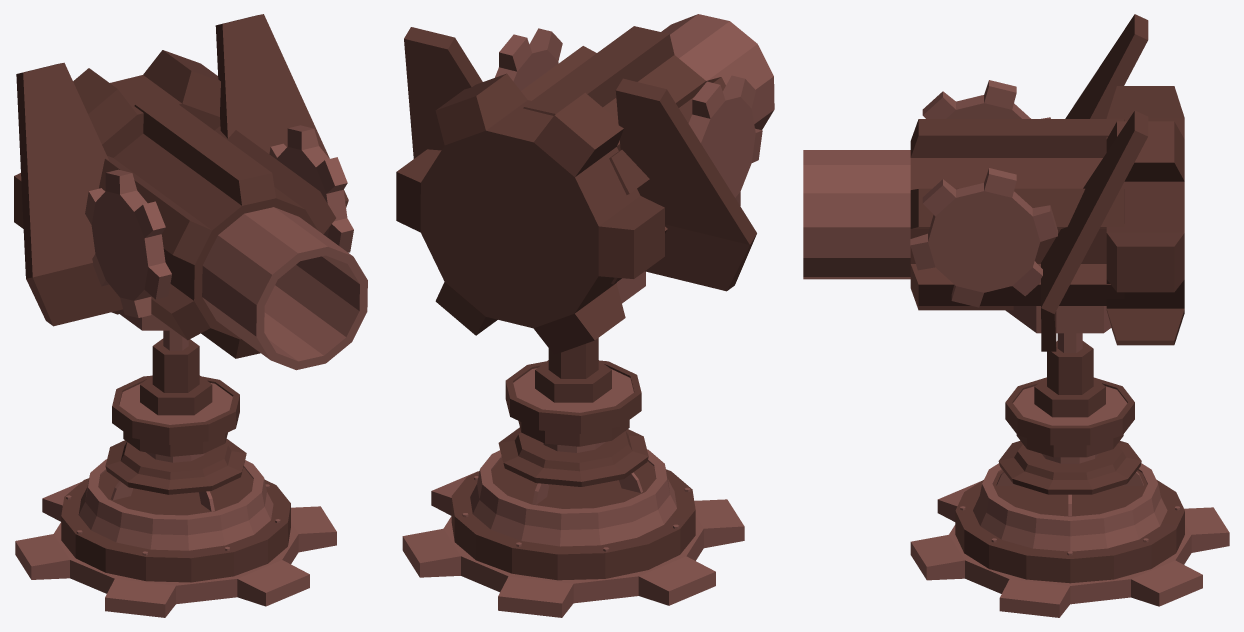
Rendered from cannon-2.glb.
3 views of the same model, side by side, from view 1: azimuth 30°, elevation 25°; view 2: azimuth 150°, elevation 25°; view 3: azimuth 270°, elevation 25° (orthographic). The views are drawn at different scales.
Parts seen in each view (by area): view 1: Cannon_2_Gun, Cannon_2_Base, Cannon_2_Mid; view 2: Cannon_2_Gun, Cannon_2_Base, Cannon_2_Mid; view 3: Cannon_2_Gun, Cannon_2_Base, Cannon_2_Mid.
Part boxes in pixels (x1=…): Cannon_2_Gun: x1=14, y1=14, x2=367, y2=370; Cannon_2_Base: x1=15, y1=375, x2=336, y2=617; Cannon_2_Mid: x1=140, y1=330, x2=212, y2=415; Cannon_2_Gun: x1=396, y1=14, x2=774, y2=354; Cannon_2_Base: x1=402, y1=360, x2=744, y2=617; Cannon_2_Mid: x1=535, y1=338, x2=611, y2=402; Cannon_2_Gun: x1=803, y1=14, x2=1184, y2=351; Cannon_2_Base: x1=910, y1=377, x2=1229, y2=617; Cannon_2_Mid: x1=1034, y1=333, x2=1105, y2=417.
Bounding box in the file's own units: 1.56 × 2.29 × 1.84.
